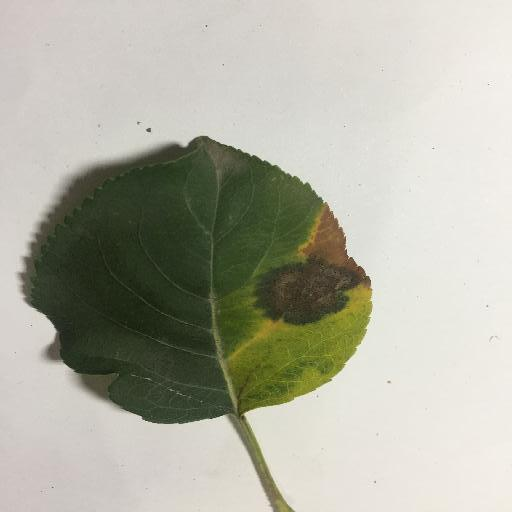Brown_Spot: (243, 257, 359, 326)
